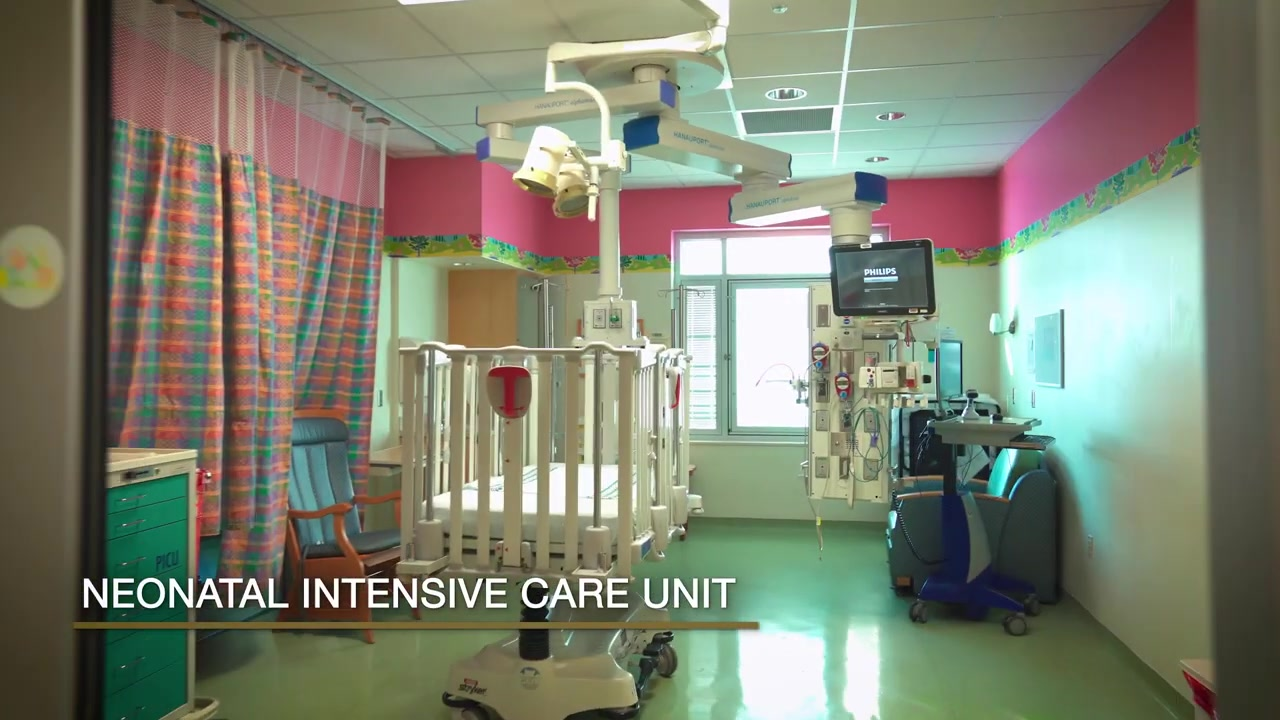bedrail: (412, 345, 635, 579), (626, 350, 691, 551)
bedside_monitor: (834, 244, 931, 313)
chair: (271, 415, 422, 645)
computer: (938, 340, 963, 398)
curtain: (103, 1, 390, 606)
handle: (115, 702, 147, 720), (119, 653, 146, 671), (116, 553, 147, 568), (115, 491, 148, 504), (120, 515, 147, 529)
hospital_bed: (397, 340, 704, 689)
iv_pole: (657, 283, 706, 348), (531, 279, 561, 348)
keyboard: (1023, 435, 1054, 445)
medical_drawer: (107, 446, 200, 720)
mouse: (990, 413, 1003, 421)
sofa: (884, 449, 1060, 604)
surgical_light: (511, 125, 571, 199), (551, 150, 589, 218)
waste_bin: (1178, 659, 1216, 720)
